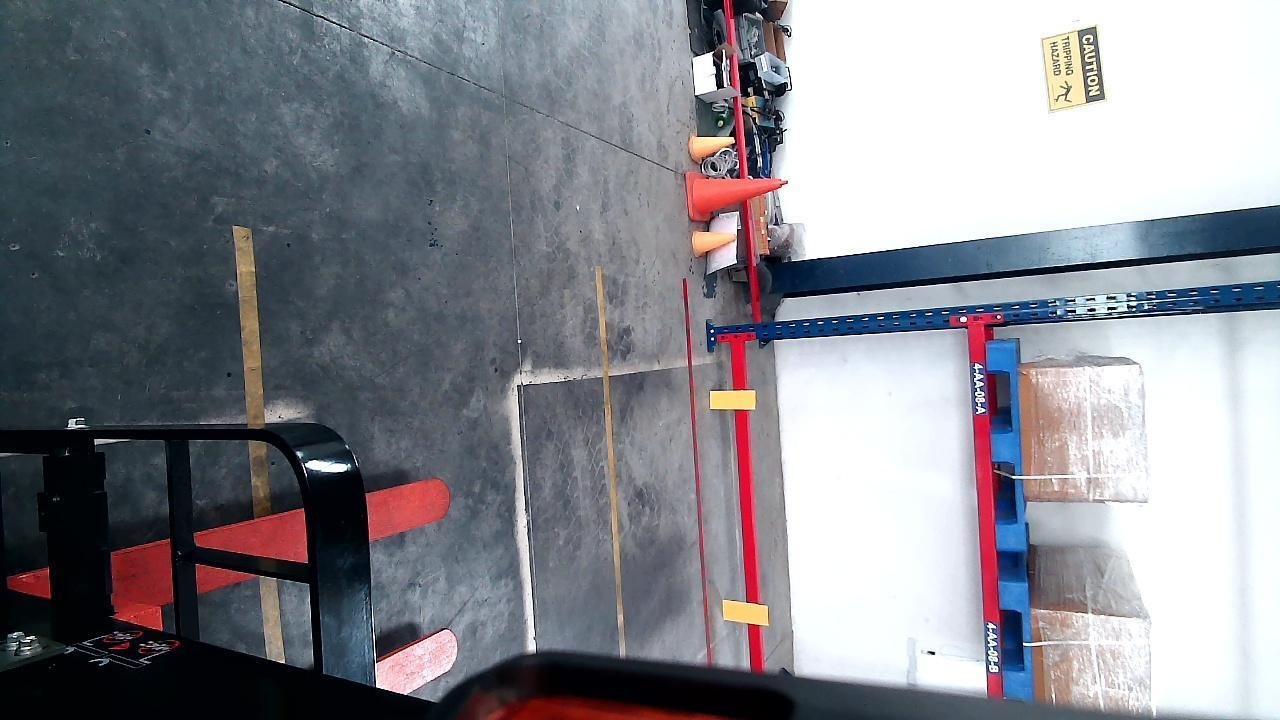h_rack: (712, 0, 774, 176), (971, 332, 1000, 697), (733, 330, 759, 666)
orange_strip: (721, 599, 765, 625), (705, 387, 754, 410)
red_line: (685, 327, 707, 631)
small_pallet: (987, 337, 1025, 530), (996, 572, 1033, 704)
yellow_line: (600, 267, 627, 635), (235, 219, 264, 425)
